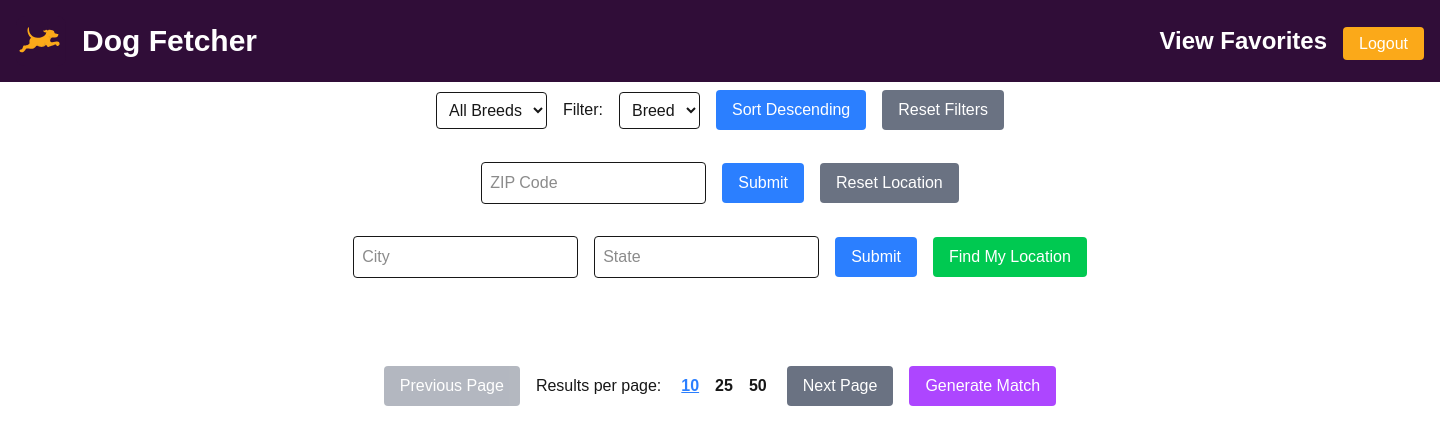
Test case: Home › handles ZIP code input and reset filters
The width and height of the screenshot is (1440, 423).
Type "12345" into the field with placeholder "ZIP Code". click: [594, 183]
box: [481,162,706,204]
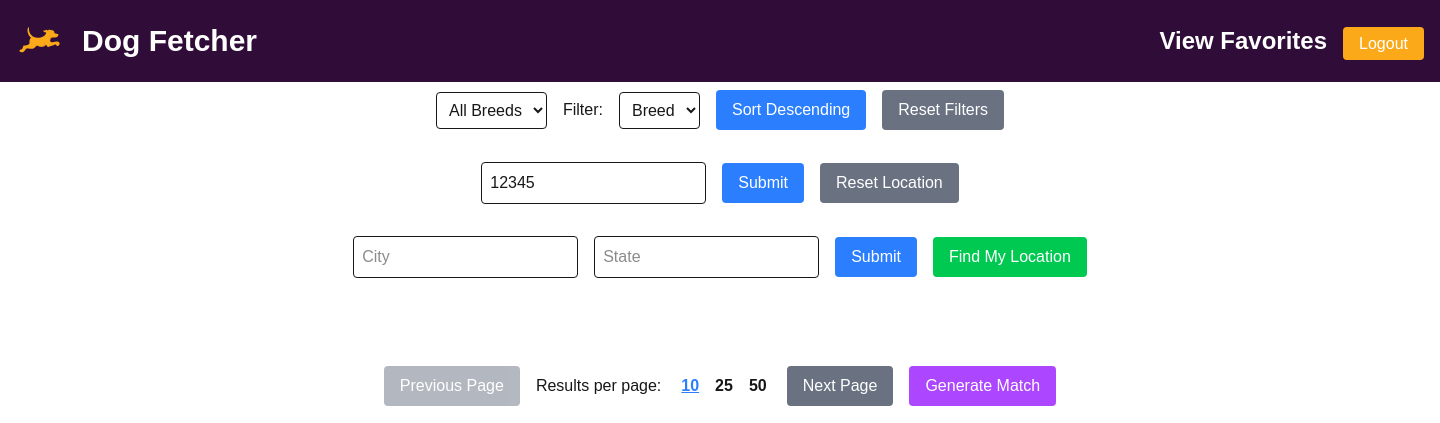
Click the button "Reset Location". click: [889, 183]
box: [820,163,959,203]
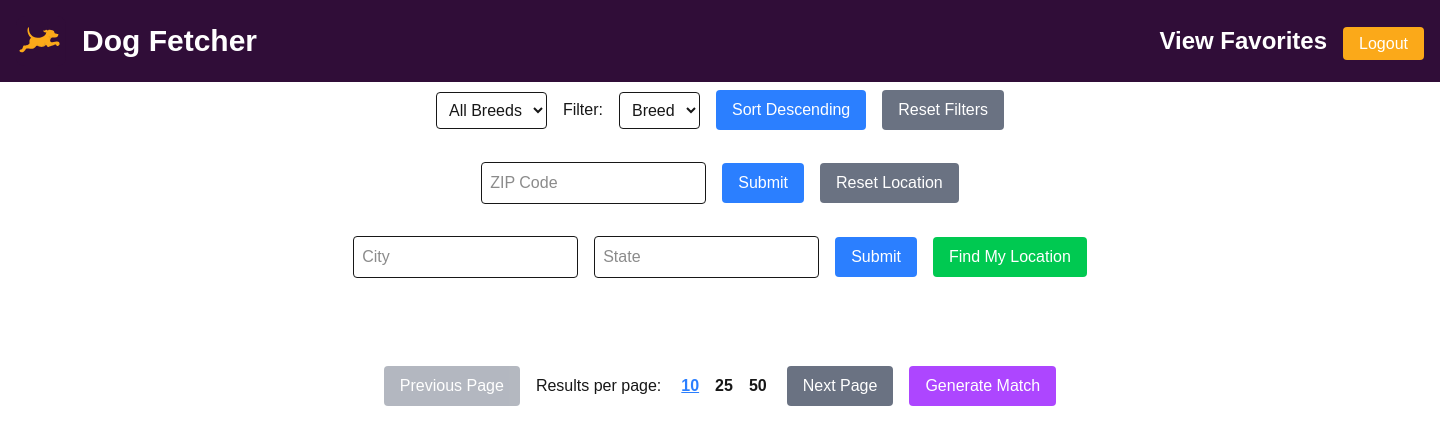
Expected: the field with placeholder "ZIP Code" is empty, [481,162,706,204]
